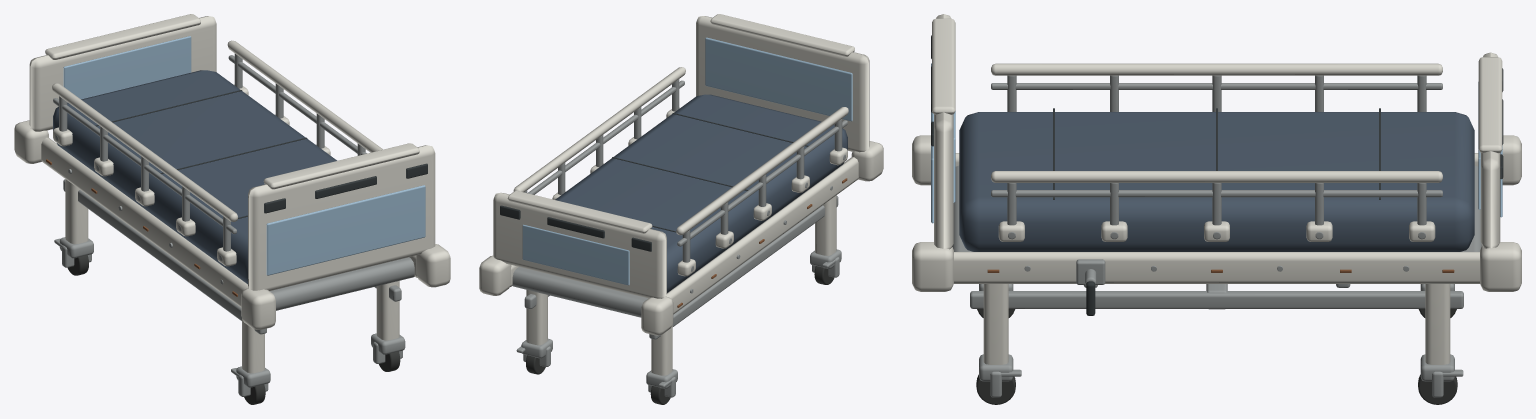
File: bed.fbx
The picture shows the model from 3 angles, left to right: view 1: azimuth 30°, elevation 25°; view 2: azimuth 150°, elevation 25°; view 3: azimuth 270°, elevation 25°; orthographic projection. The views are drawn at different scales.
Parts seen in each view (by area): view 1: bed; view 2: bed; view 3: bed.
Part boxes in pixels (x1=…): bed: x1=14, y1=14, x2=450, y2=404; bed: x1=479, y1=14, x2=883, y2=404; bed: x1=912, y1=14, x2=1521, y2=404.
Bounding box in the file's own units: 1.16 × 1.25 × 2.32.
